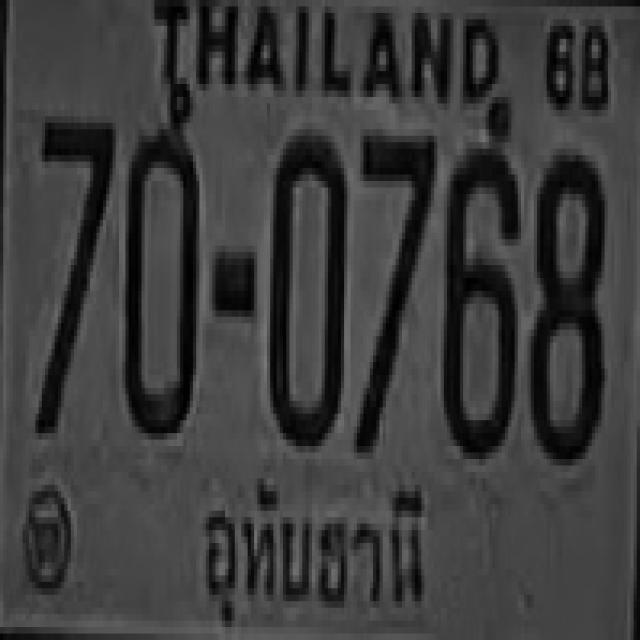0: (267, 129, 344, 440), (122, 123, 196, 433)
6: (440, 142, 518, 453)
7: (354, 129, 434, 446), (36, 113, 112, 430)
8: (528, 149, 602, 459)
UthaiThani: (193, 466, 429, 640)
